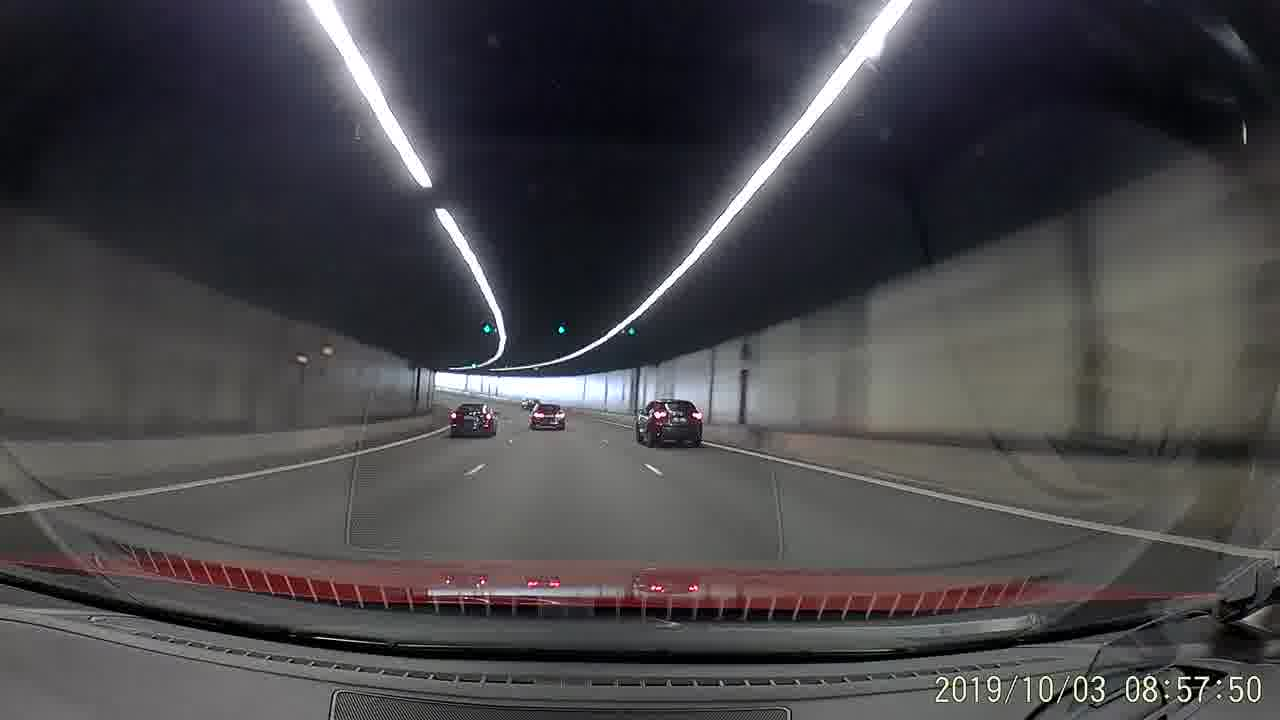car: (632, 399, 703, 450), (447, 400, 498, 439), (527, 398, 566, 431)
